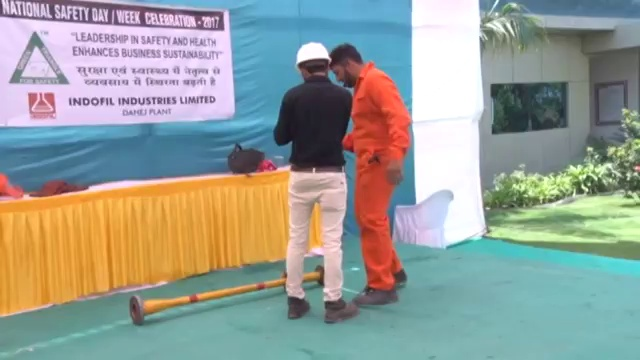helmet: (294, 42, 332, 72)
helmet_off: (333, 41, 365, 93)
helmet_on: (293, 40, 335, 84)
person: (272, 41, 359, 324), (331, 40, 412, 310)
